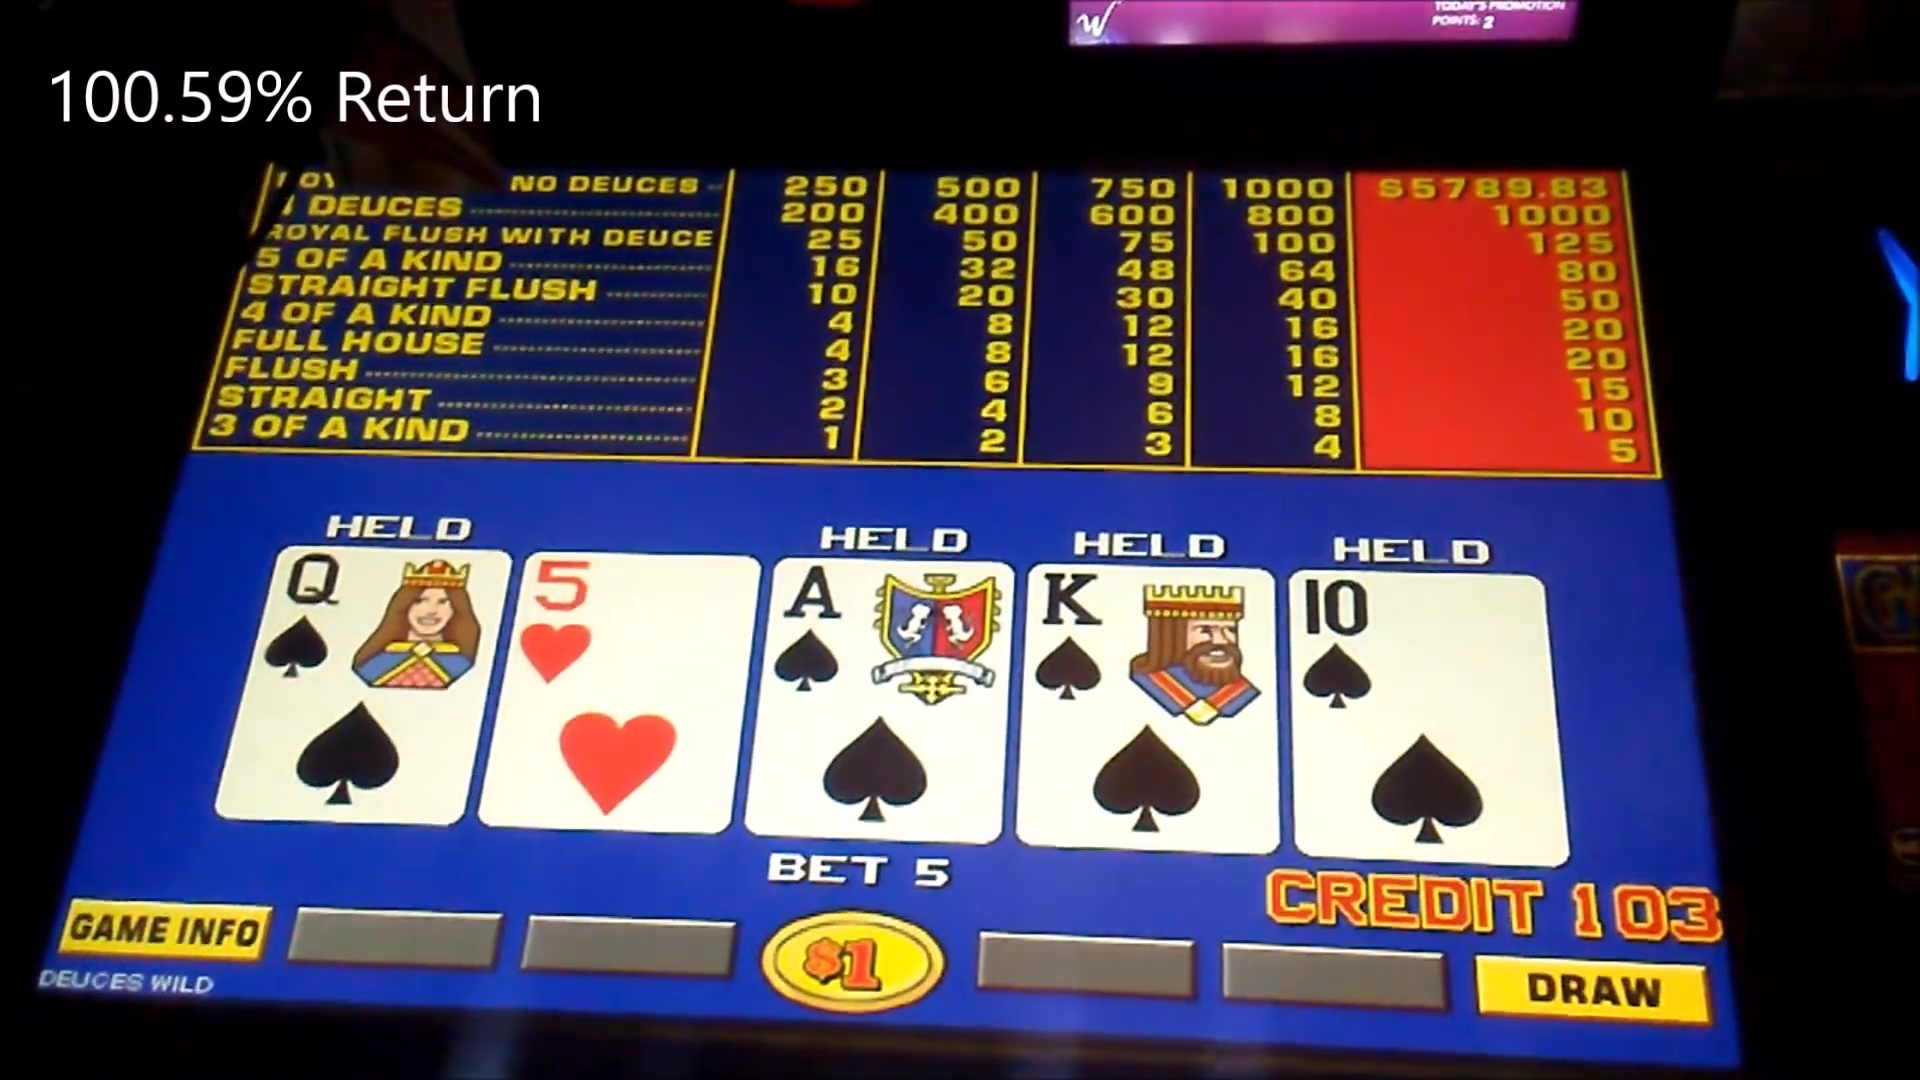H5: (496, 547, 758, 705)
SA: (748, 556, 1015, 713)
SK: (1022, 560, 1279, 716)
SQ: (243, 543, 483, 698)
ST: (1286, 568, 1556, 727)
